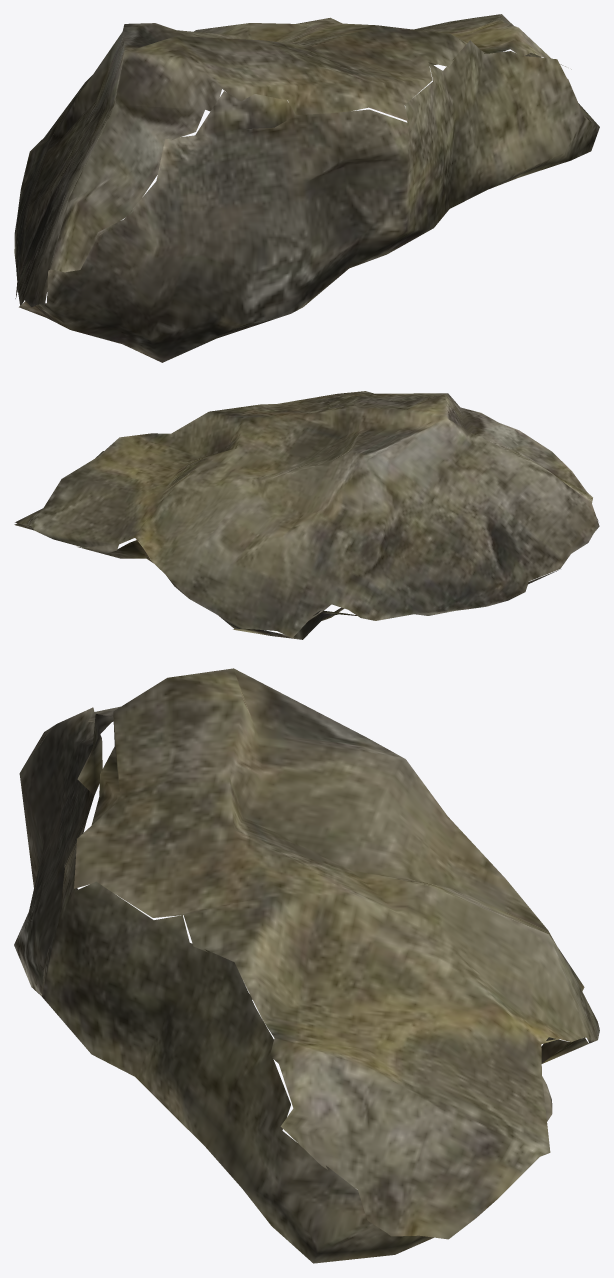
Rendered from rock_c.glb.
3 views of the same model, one above another, from view 1: azimuth 30°, elevation 25°; view 2: azimuth 150°, elevation 25°; view 3: azimuth 270°, elevation 25° (orthographic). The views are drawn at different scales.
Parts seen in each view (by area): view 1: rock_c; view 2: rock_c; view 3: rock_c.
Boxes of the visible parts, x1,y1,x2,y2 form: rock_c: [14, 14, 599, 362]; rock_c: [14, 391, 599, 639]; rock_c: [14, 668, 599, 1263].
Size of the model in its own units: 0.77 by 0.2862 by 0.4806.
Materials: 1 (1 with a texture image).
